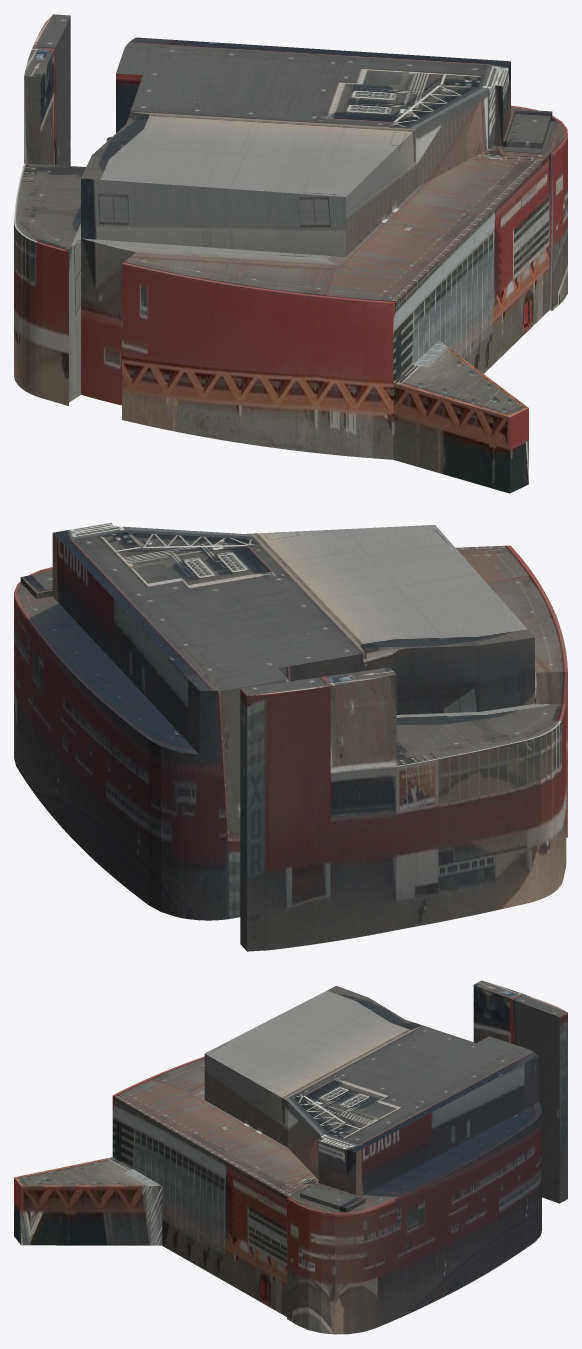
File: {924CAB1F-4A5C-4AF2-AF0C-28F223E73383}.dae
3 renders of one model, top to bottom at view 1: azimuth 30°, elevation 25°; view 2: azimuth 150°, elevation 25°; view 3: azimuth 270°, elevation 25°, orthographic. The views are drawn at different scales.
Size of the model in its own units: 90.53 by 108 by 40.24.
17 materials, 16 textured.
